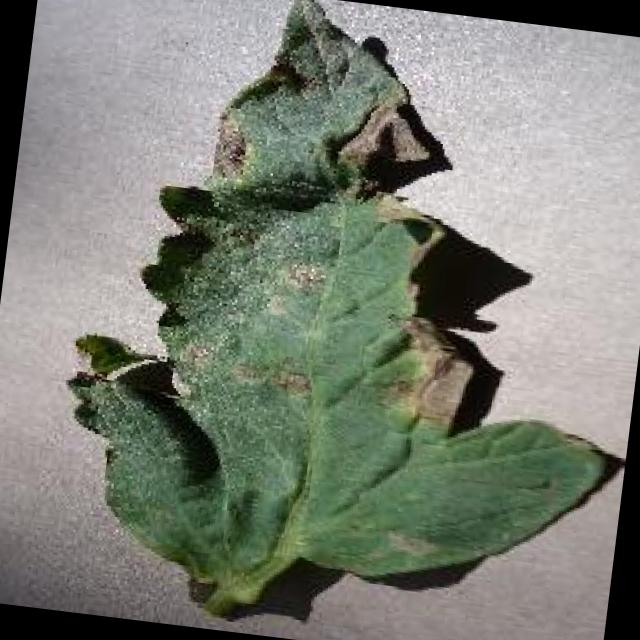Tomato_Early_Blight: (35, 0, 617, 619)
